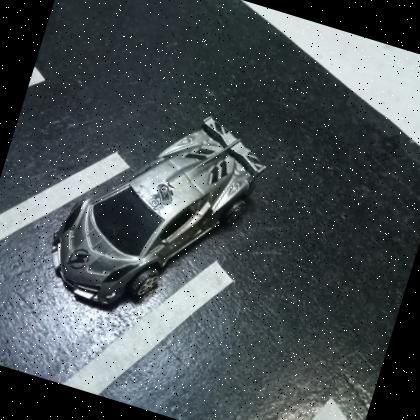Car: (55, 119, 265, 312)
